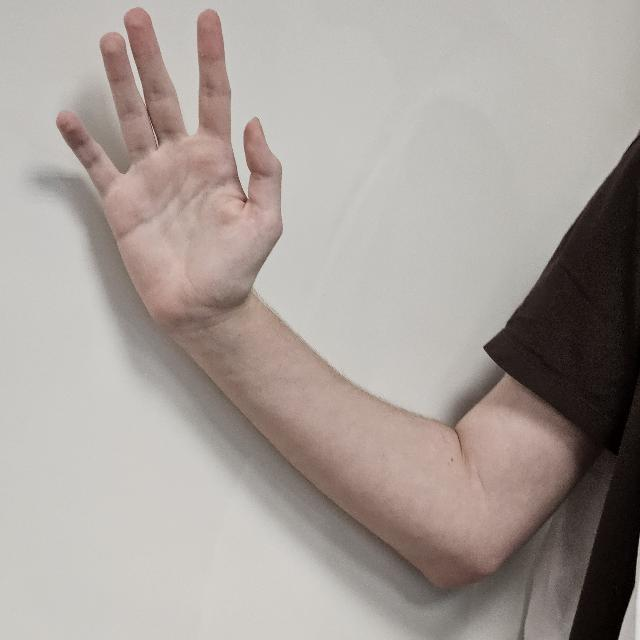X: (50, 7, 284, 346)
